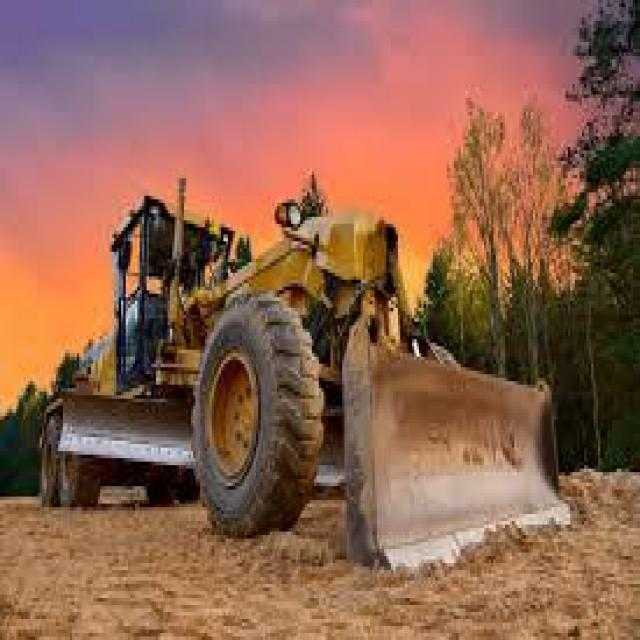Grader: (26, 185, 596, 633)
